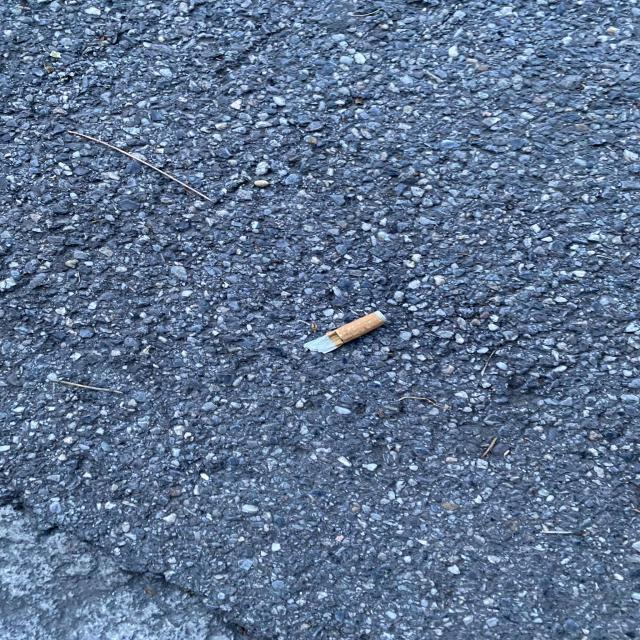other waste: (303, 310, 387, 354)
